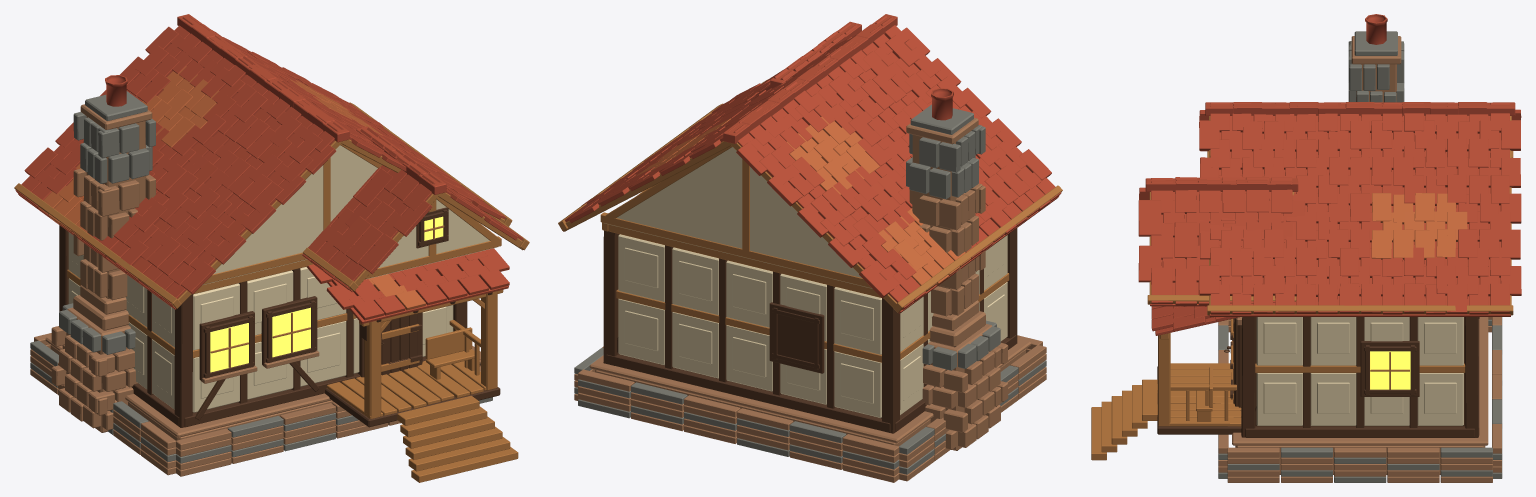
The model's file is house_farmhouse_b.glb.
3 renders of one model, left to right at view 1: azimuth 30°, elevation 25°; view 2: azimuth 150°, elevation 25°; view 3: azimuth 270°, elevation 25°, orthographic. The views are drawn at different scales.
Parts seen in each view (by area): view 1: house_farmhouse_b_LOD0; view 2: house_farmhouse_b_LOD0; view 3: house_farmhouse_b_LOD0.
Part boxes in pixels (x1,y1,x2,y2): house_farmhouse_b_LOD0: [14, 14, 529, 482]; house_farmhouse_b_LOD0: [558, 14, 1062, 482]; house_farmhouse_b_LOD0: [1091, 14, 1521, 482].
Size of what is drawn, in the model's own units: 8.53 by 7.7 by 9.33.
